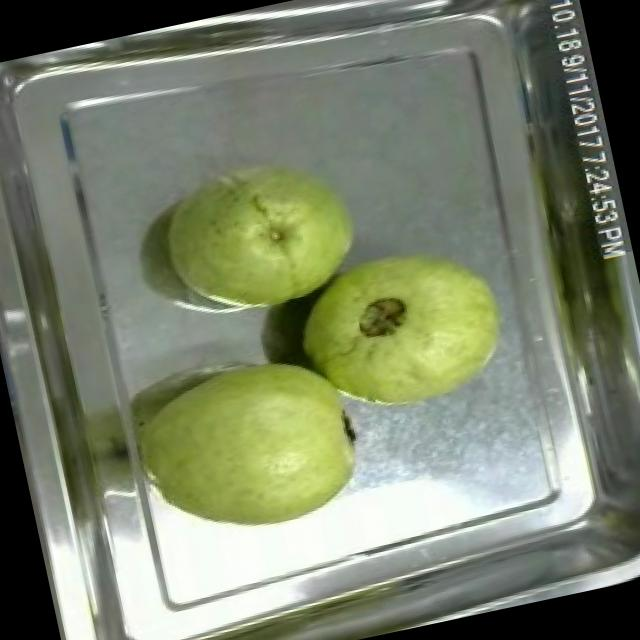Fruit: (120, 332, 378, 559), (276, 222, 528, 434), (144, 129, 378, 334)
